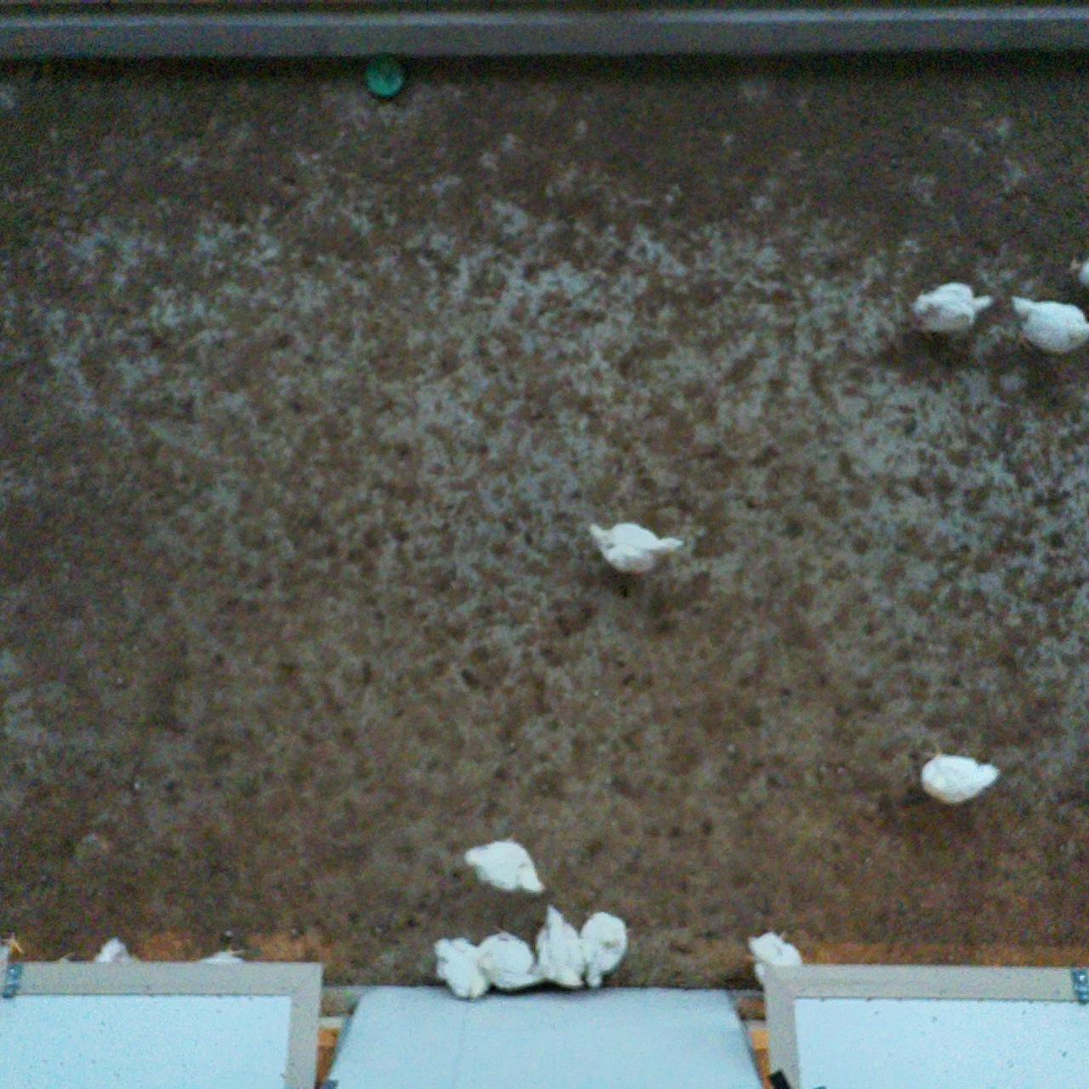chicken: (579, 513, 687, 587), (459, 827, 548, 907), (902, 275, 998, 349), (906, 733, 1000, 808), (1004, 285, 1089, 365), (531, 900, 588, 992), (580, 905, 640, 992), (476, 922, 542, 995), (739, 925, 800, 983)
